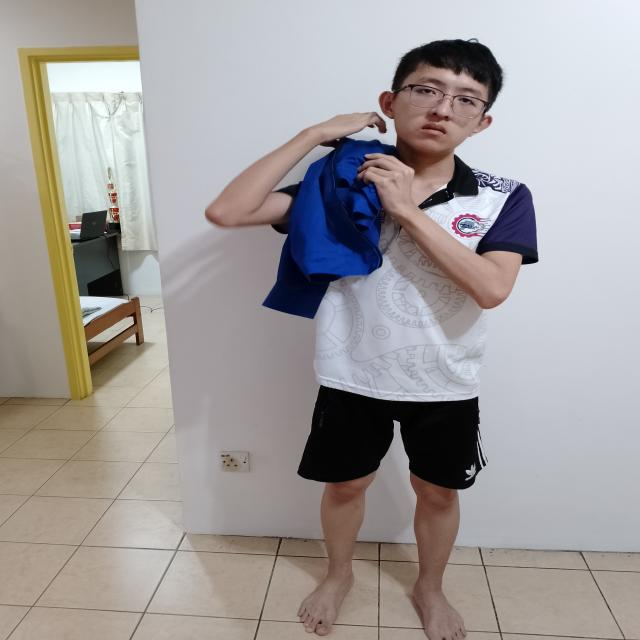person_without_labcoat: (206, 40, 538, 640)
